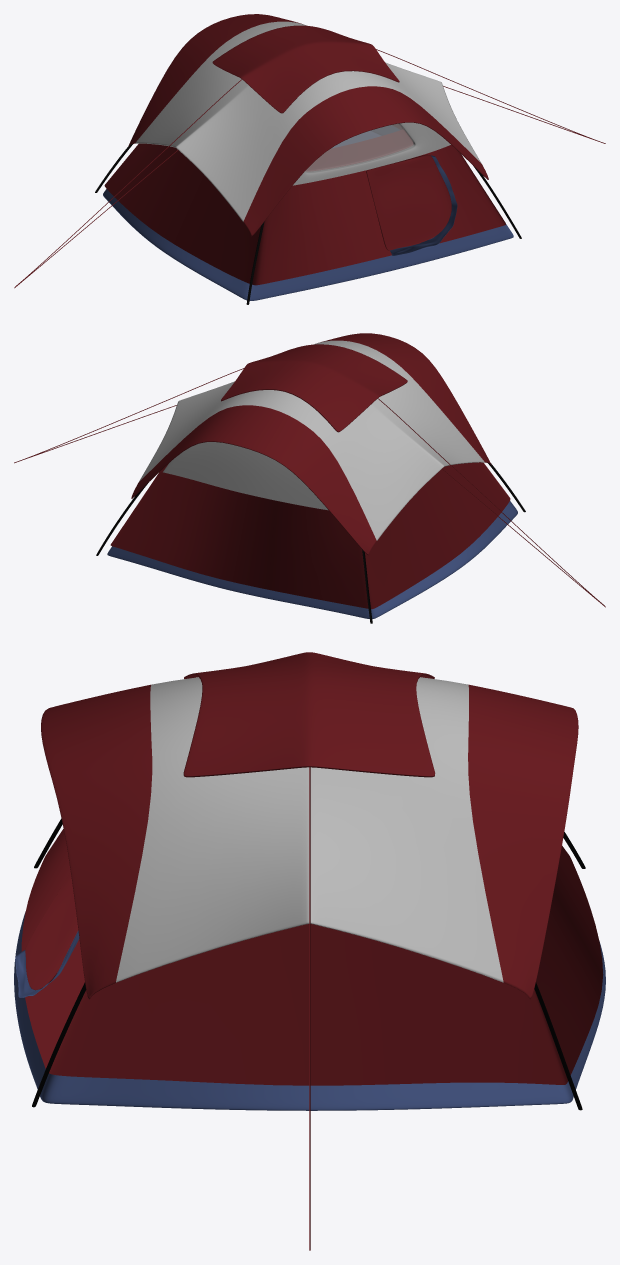
File: tentvr-blendtent-01.obj
3 renders of one model, top to bottom at view 1: azimuth 30°, elevation 25°; view 2: azimuth 150°, elevation 25°; view 3: azimuth 270°, elevation 25°, orthographic. The views are drawn at different scales.
Visible parts, largest first — view 1: tentvr_blendtent_01; view 2: tentvr_blendtent_01; view 3: tentvr_blendtent_01.
Boxes of the visible parts, <box> form: tentvr_blendtent_01: <box>14,14,605,304</box>; tentvr_blendtent_01: <box>14,333,605,623</box>; tentvr_blendtent_01: <box>14,652,605,1250</box>.
Bounding box in the file's own units: 3.55 × 0.9903 × 1.71.
